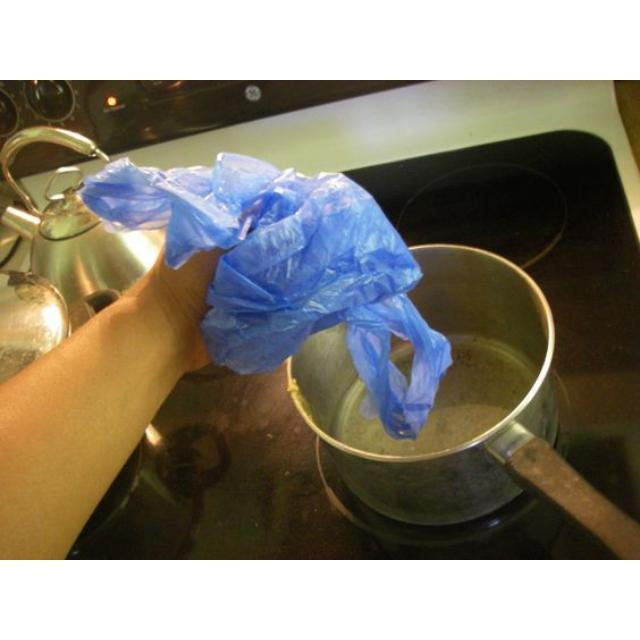Bolsa-de-plastico: (79, 152, 452, 442)
